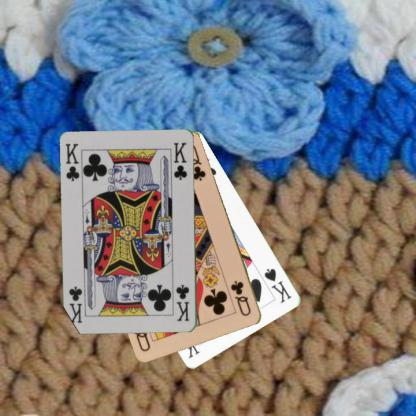Kc: (63, 141, 81, 183), (174, 282, 191, 322)
Ks: (262, 265, 293, 305)
Qc: (228, 278, 253, 318)
